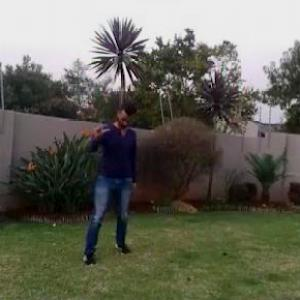land_hand: (91, 114, 109, 143)
